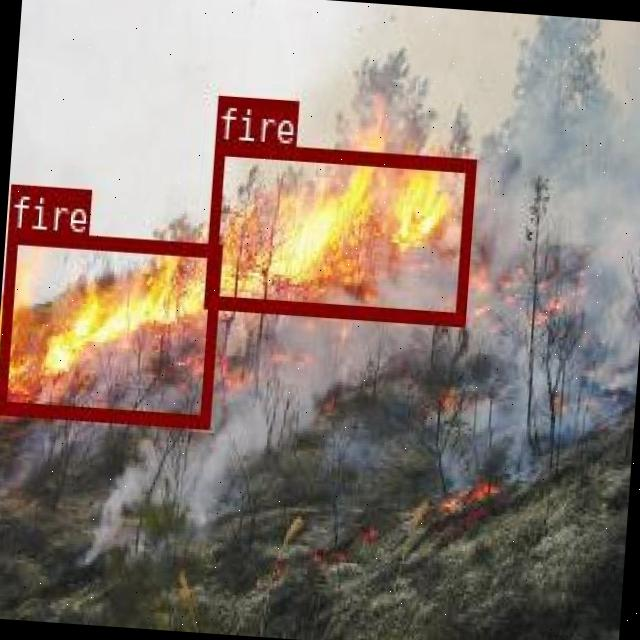fire: (203, 138, 473, 323), (0, 227, 220, 425)
